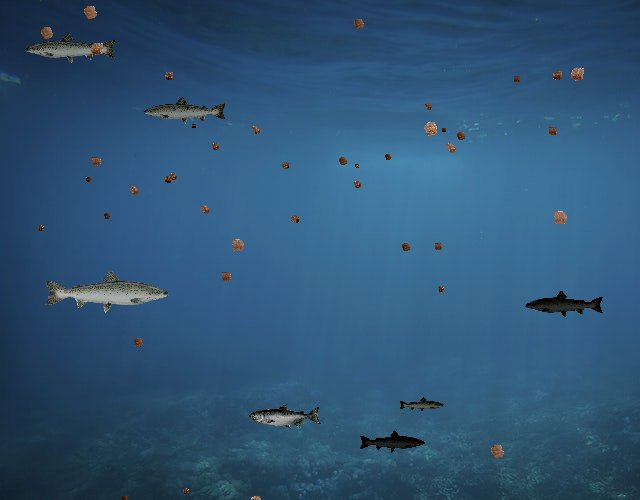Fish: (42, 268, 171, 314), (24, 31, 118, 65), (142, 95, 228, 126), (524, 290, 605, 319), (250, 404, 323, 430), (358, 429, 426, 454), (398, 396, 445, 413)
Pellet: (563, 60, 591, 88), (451, 126, 470, 145), (349, 176, 366, 193), (178, 484, 193, 499), (433, 282, 448, 296), (34, 221, 48, 235), (118, 492, 132, 500)
